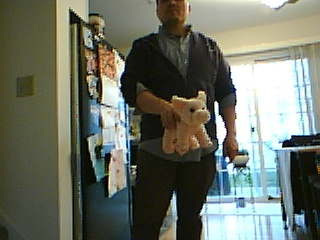piggy: (161, 90, 214, 156)
